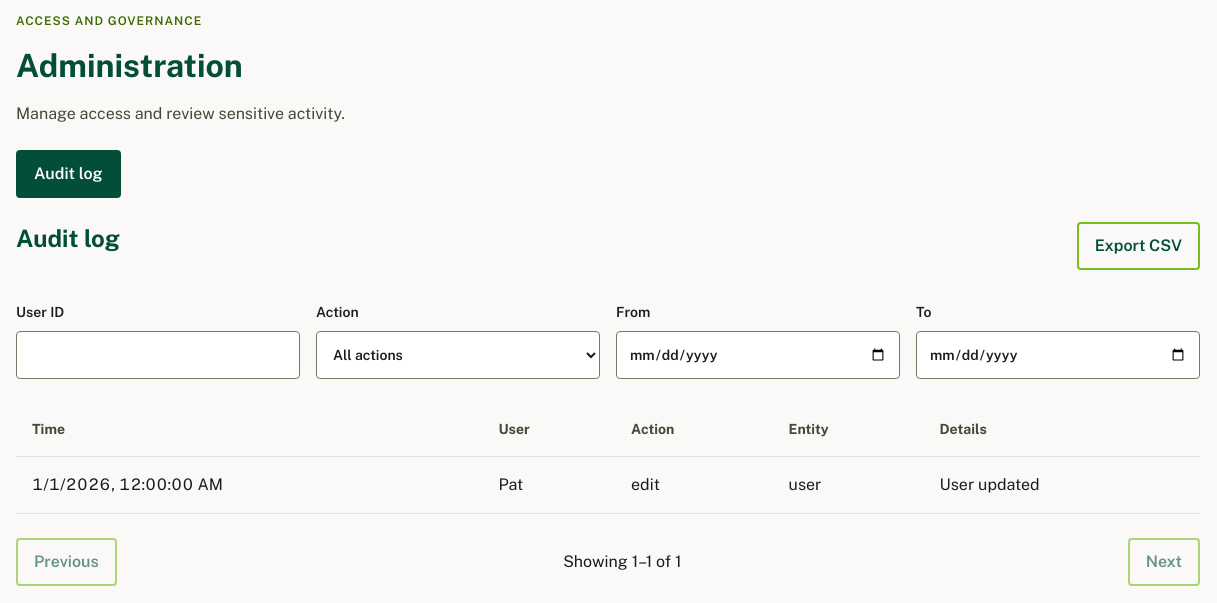
it: allows auditors to filter audit events without administrative controls
Expected: the text "User updated" is shown, [924,456,1200,514]
Select "delete" in the dropdown labelled "Action": (458, 355) [316,331,600,379]
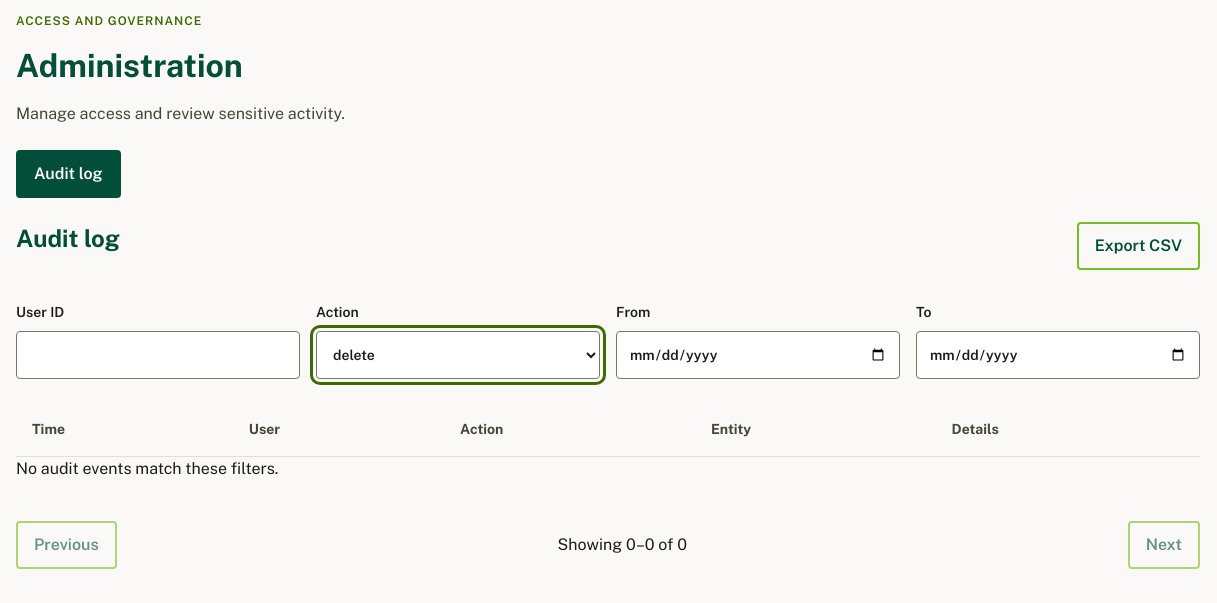
Expected: the text "No audit events match these filters." is shown, [16,459,278,478]
